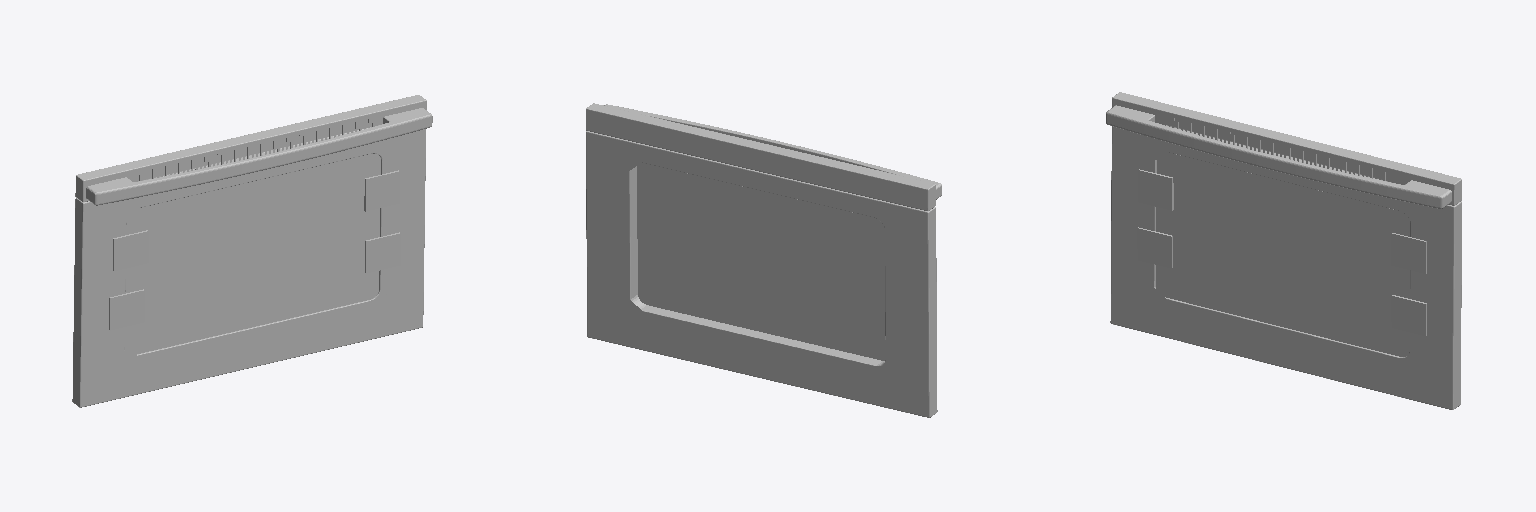
The model's file is Puerta_Estufa.obj.
The picture shows the model from 3 angles: view 1: azimuth 30°, elevation 25°; view 2: azimuth 150°, elevation 25°; view 3: azimuth 330°, elevation 25°; orthographic projection.
Visible parts, largest first — view 1: polySurface892; view 2: polySurface892; view 3: polySurface892.
Part boxes in pixels (x1,y1,x2,y2): polySurface892: (72,95,432,407); polySurface892: (586,103,941,417); polySurface892: (1106,92,1461,409).
Size of the model in its own units: 2.78 by 1.77 by 0.3075.